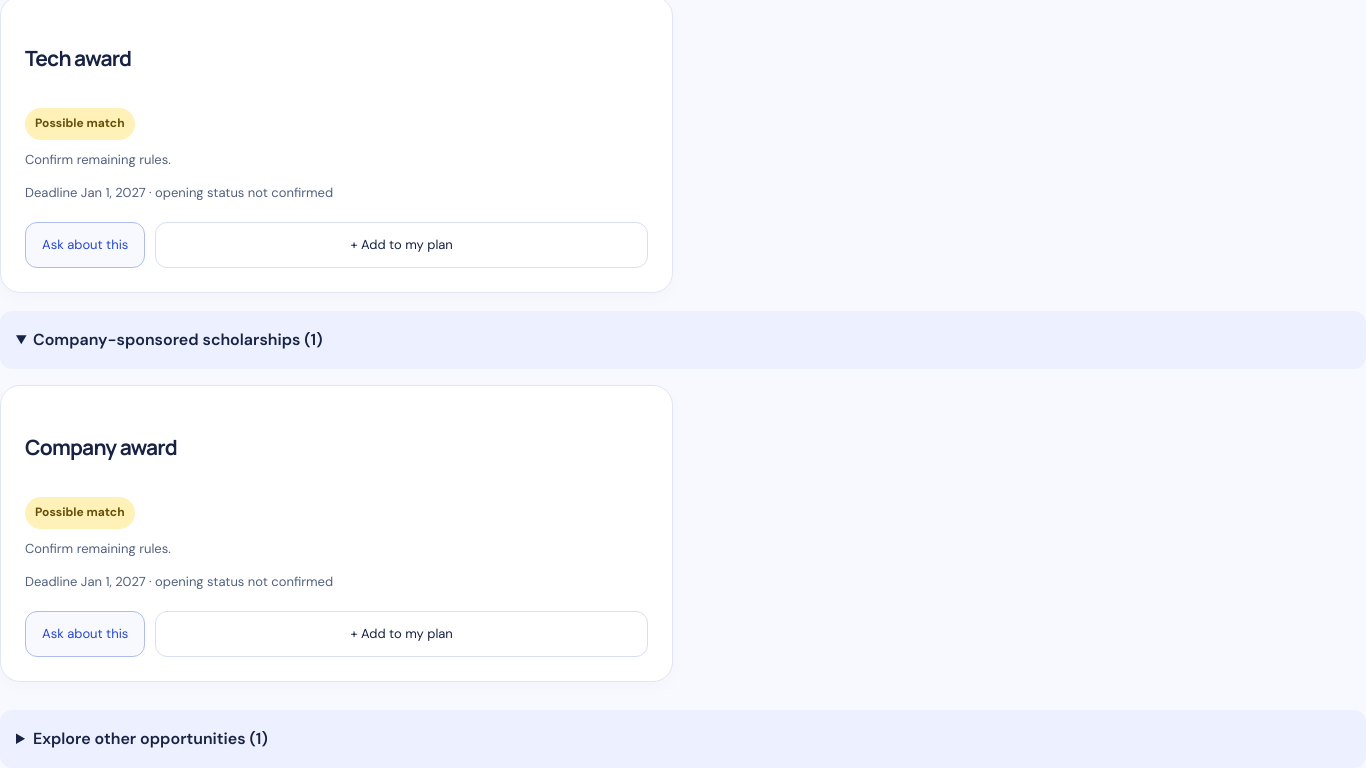
college preferences filter colleges, retain portable awards, and keep Explore collapsed
The image size is (1366, 768).
(page scrolled)
Expected: the text "Auburn award" is not shown
Expected: the heading "Company award" is shown, [25,433,177,461]
Click the heading "Explore other opportunities (1)". click: (144, 739)
box: [0,710,1365,767]
(page scrolled)
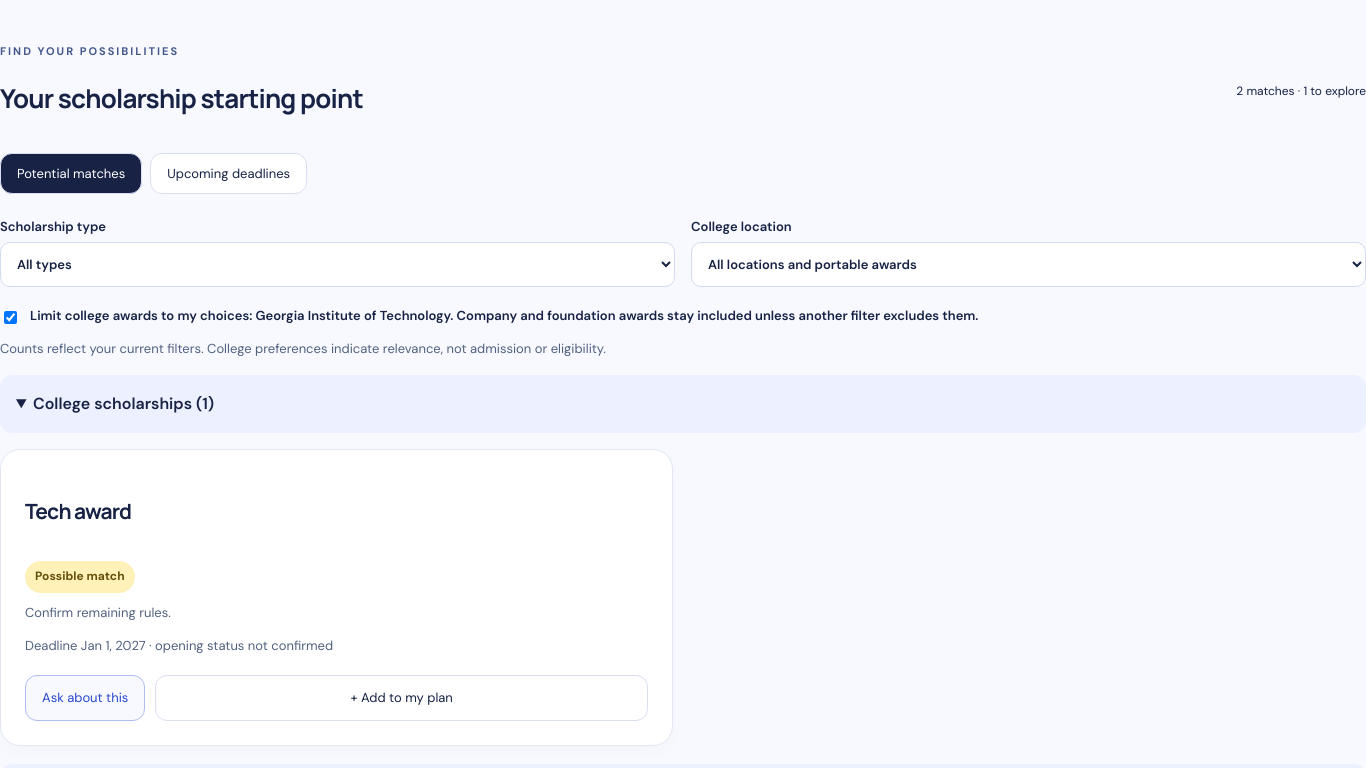
Select "Georgia colleges" in the dropdown labelled "College location". click: (1028, 265)
box: [691,242,1365,287]
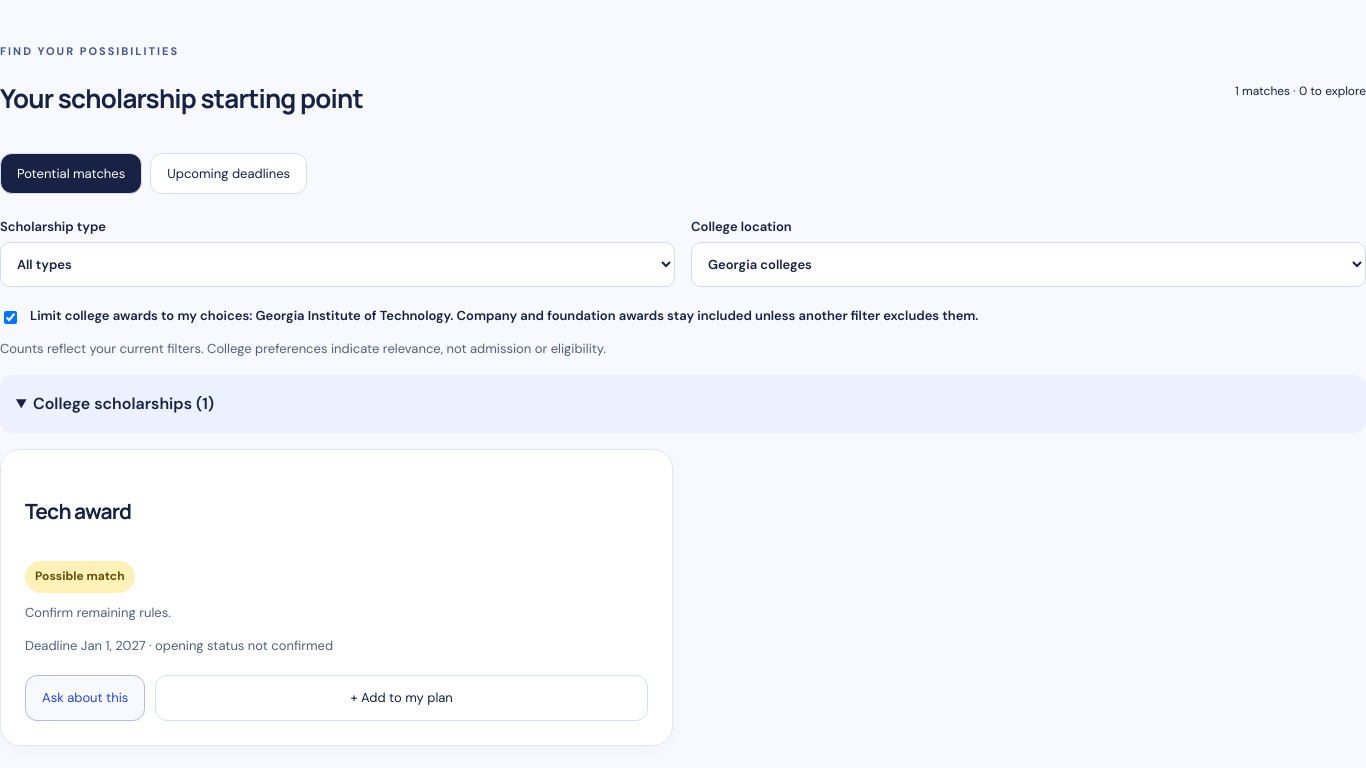
Expected: the text "Company award" is not shown
Expected: the text "1 matches · 0 to explore" is shown, [1235,83,1365,99]
Select "All locations and portable awards" in the dropdown labelled "College location". click: (1028, 265)
box: [691,242,1365,287]
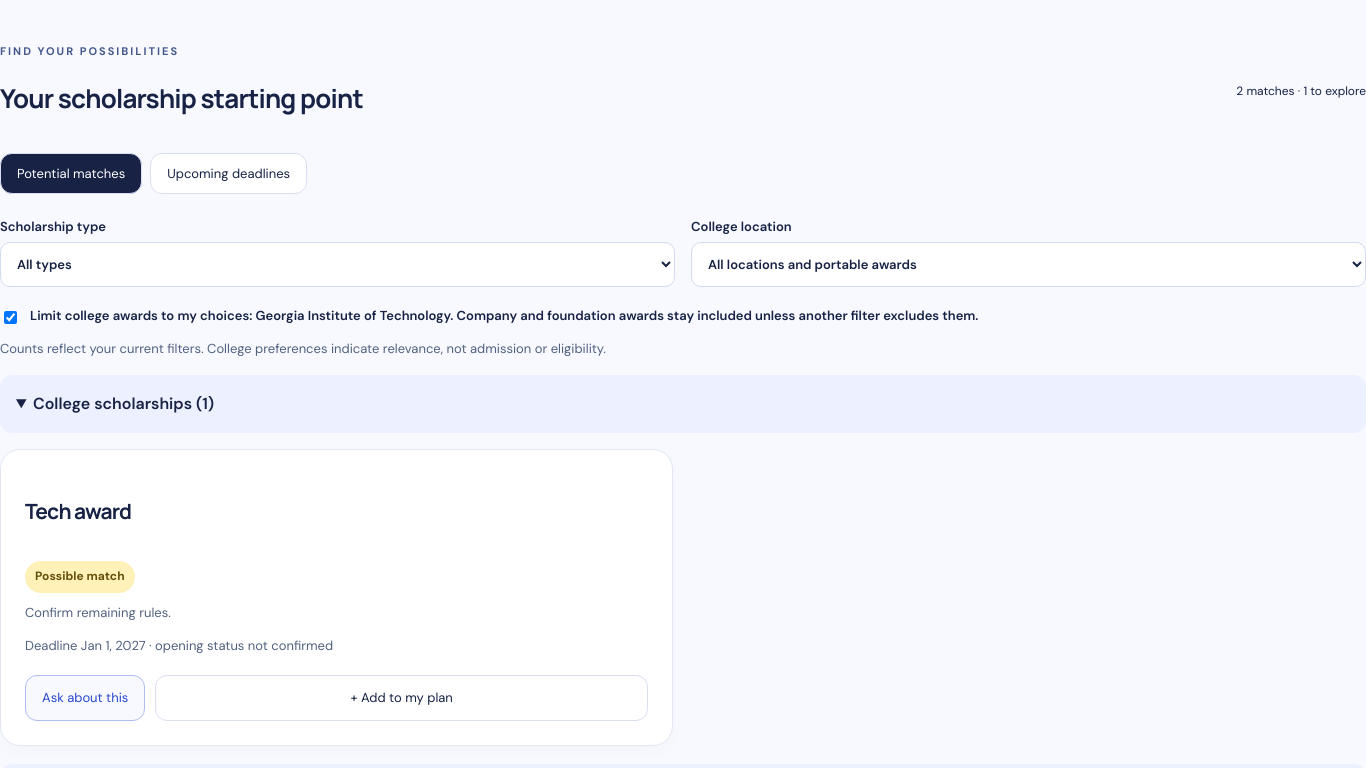
Click the checkbox. click: (10, 318)
box: [4,311,17,324]
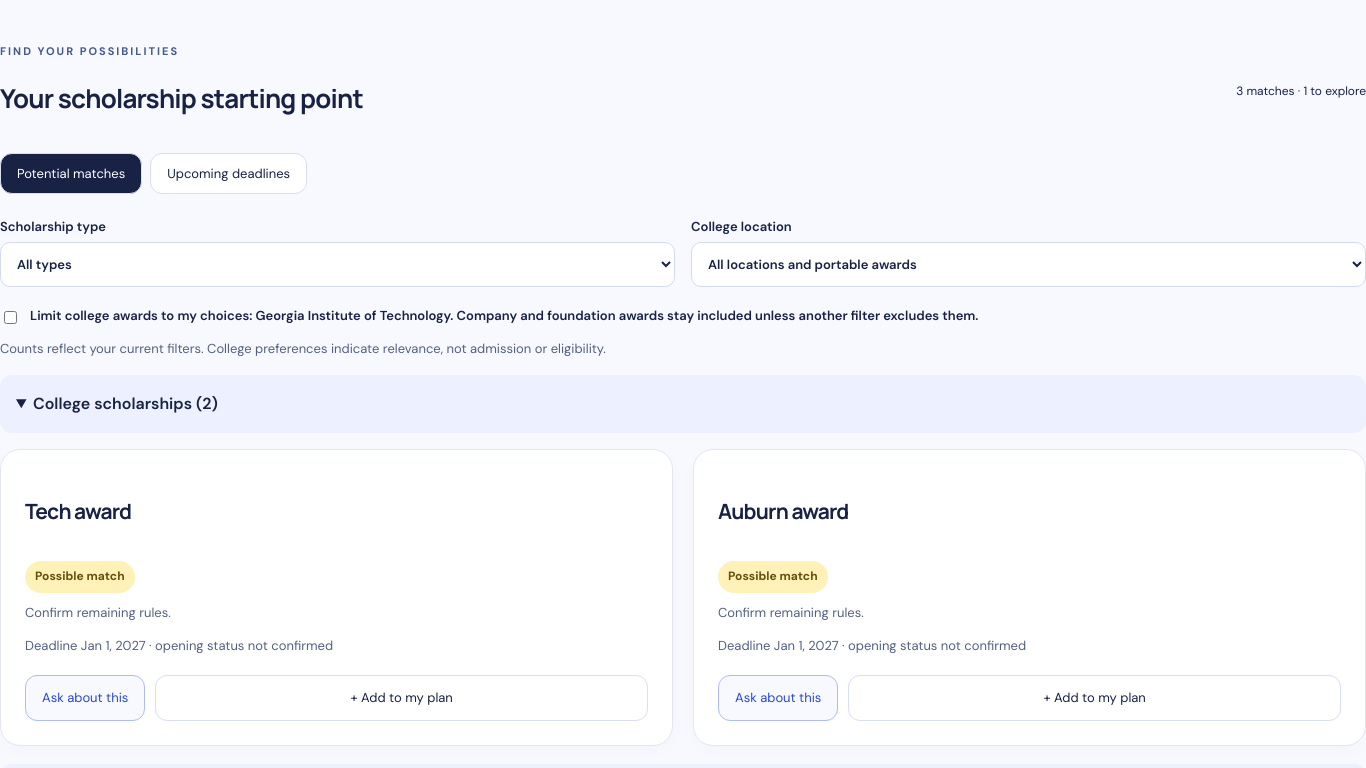
Expected: the heading "Auburn award" is shown, [718,497,848,525]
Expected: the text "3 matches · 1 to explore" is shown, [1236,83,1365,99]
